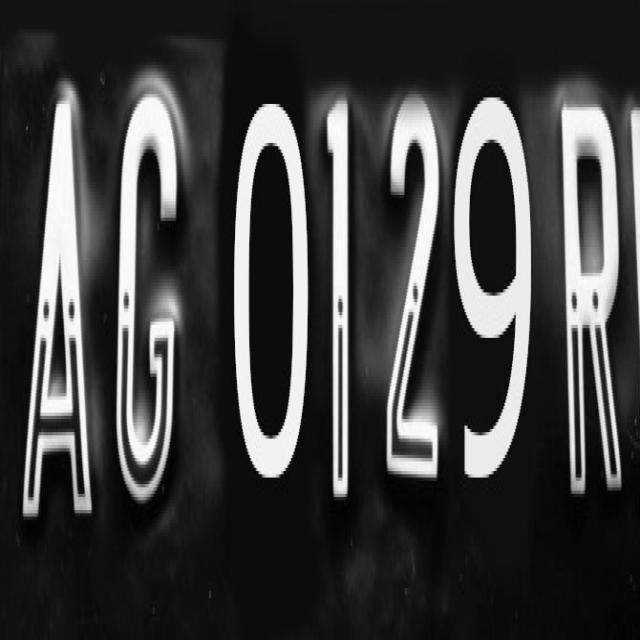0: (220, 96, 308, 480)
1: (316, 100, 366, 494)
2: (376, 93, 440, 494)
9: (453, 90, 533, 487)
A: (7, 74, 104, 518)
G: (102, 78, 202, 508)
R: (556, 103, 626, 493)
